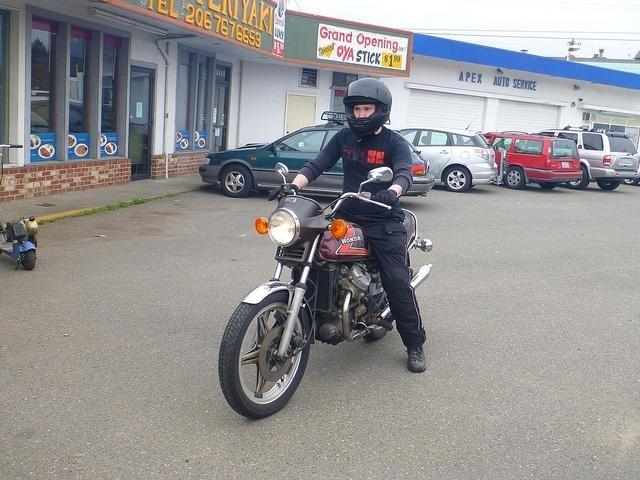car: (194, 123, 435, 199), (529, 128, 640, 192), (401, 126, 502, 192), (485, 134, 582, 189), (624, 176, 640, 184)
motorcycle: (217, 162, 439, 423)
